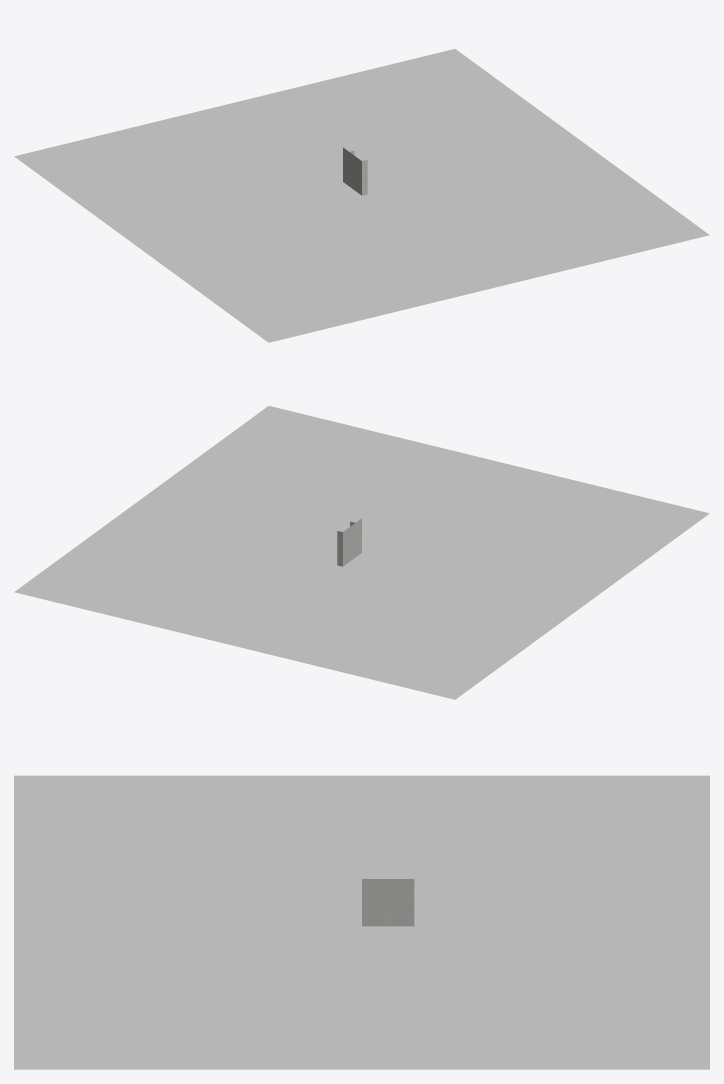
The model's file is newtiles.gltf.
The picture shows the model from 3 angles, top to bottom: view 1: azimuth 30°, elevation 25°; view 2: azimuth 150°, elevation 25°; view 3: azimuth 270°, elevation 25°; orthographic projection. The views are drawn at different scales.
Visible parts, largest first — view 1: floor, thickWallIsle; view 2: floor; view 3: floor, smallWindow, largeWindow, floorVent.
Boxes of the visible parts, left/top/right/bottom form: floor: left=14, top=49, right=709, bottom=342; thickWallIsle: left=343, top=147, right=367, bottom=195; floor: left=14, top=406, right=709, bottom=699; floor: left=14, top=775, right=709, bottom=1069; smallWindow: left=362, top=879, right=414, bottom=926; largeWindow: left=362, top=883, right=413, bottom=925; floorVent: left=365, top=879, right=413, bottom=925.
Size of the model in its own units: 80 by 6 by 80.
